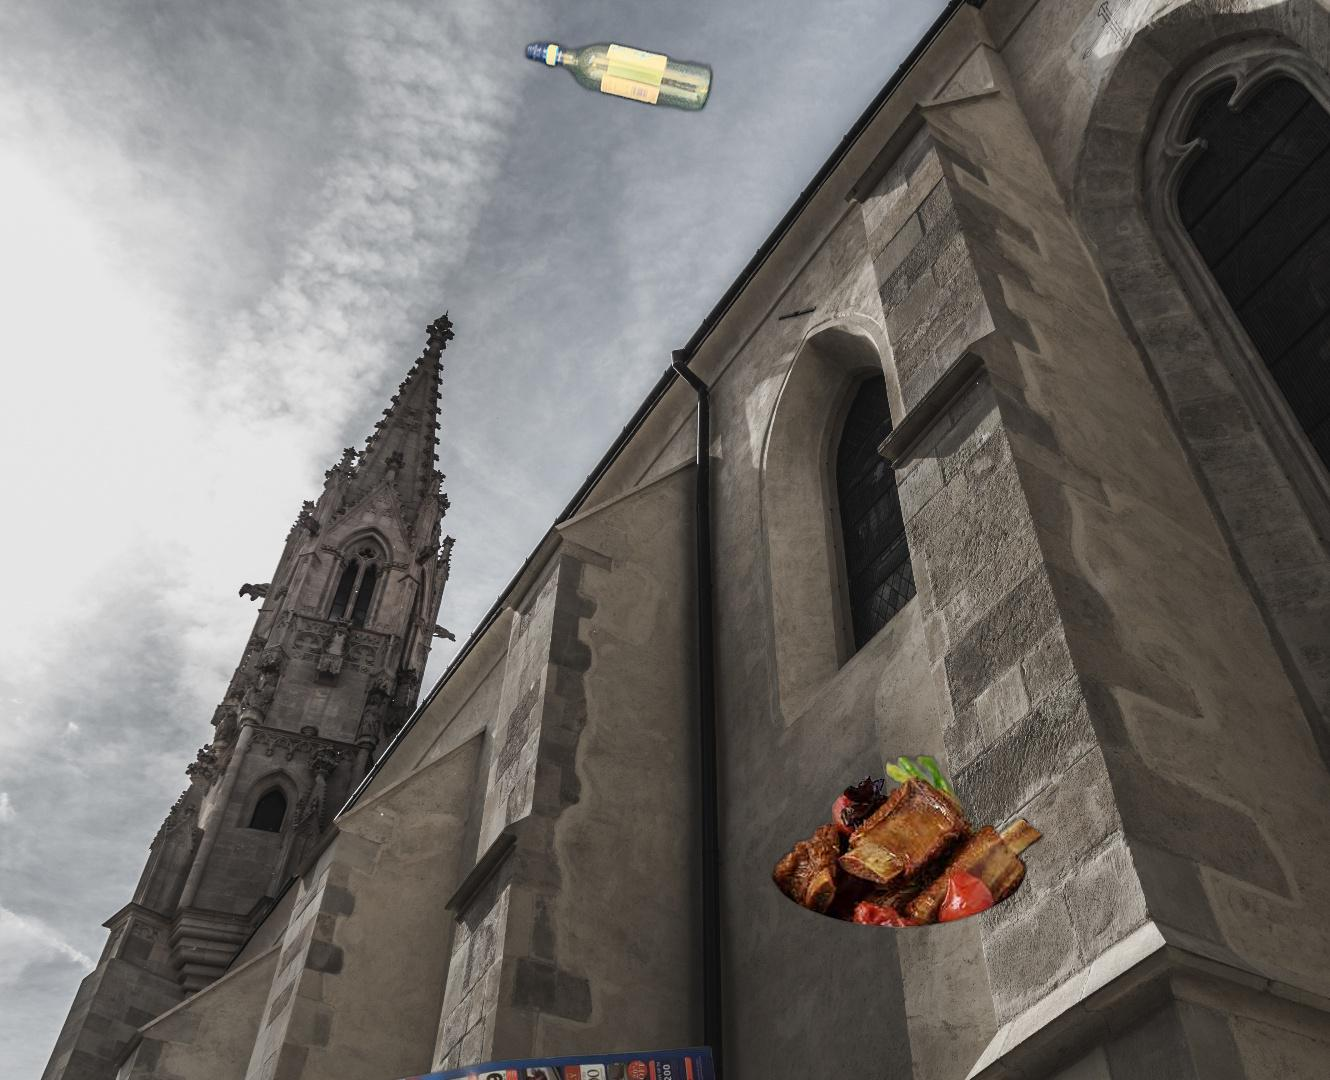biological: (768, 752, 1046, 931)
glass: (521, 37, 718, 117)
paper: (348, 1043, 735, 1080)
